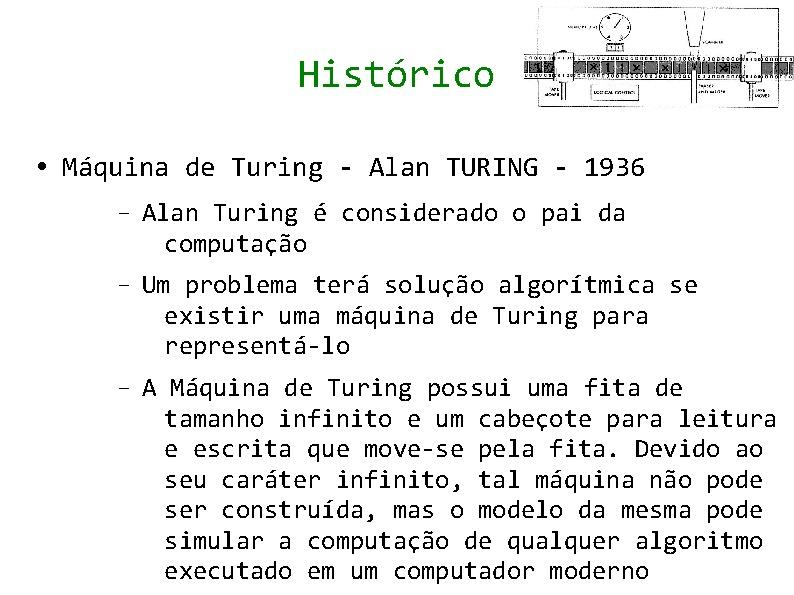paragraph: (26, 135, 787, 588)
title: (282, 46, 504, 113)
